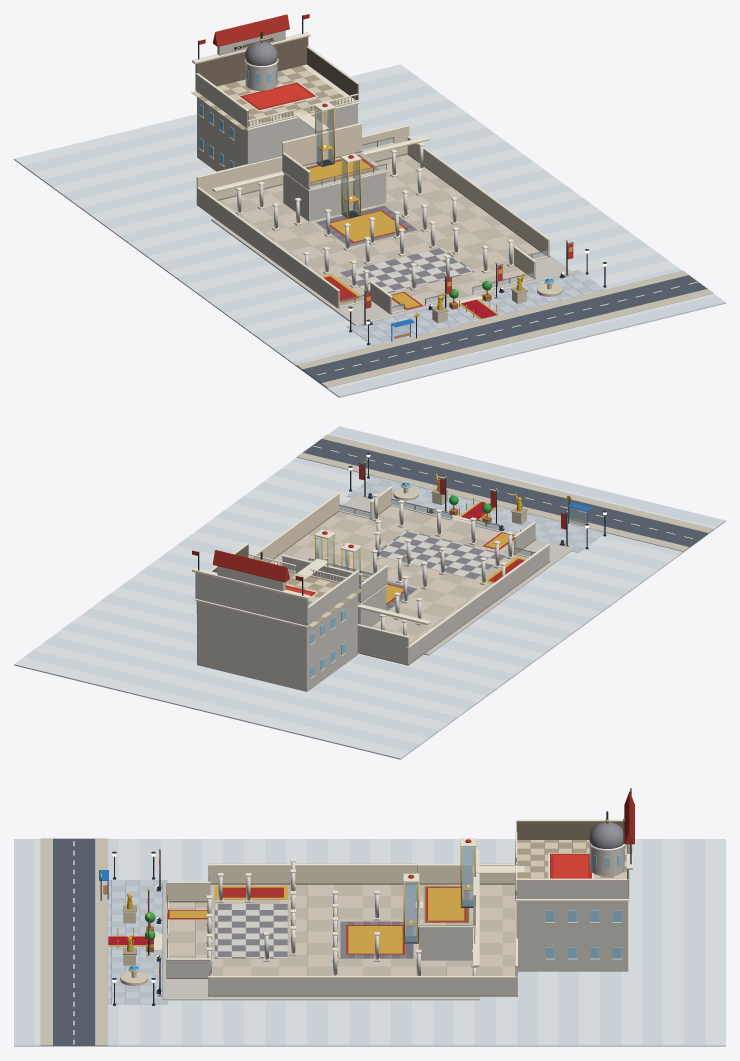
File: shell.glb
The picture shows the model from 3 angles, top to bottom: view 1: azimuth 30°, elevation 25°; view 2: azimuth 150°, elevation 25°; view 3: azimuth 270°, elevation 25°; orthographic projection. The views are drawn at different scales.
Visible parts, largest first — view 1: grounds, building, floor_keep_battlements, floor_floor_1, crown, lift_keep_battlements, lift_floor_1, grand_2, dome, grand_4; view 2: grounds, building, floor_keep_battlements, crown, floor_floor_1, grand_2, lift_keep_battlements, grand_4; view 3: grounds, building, floor_keep_battlements, floor_floor_1, crown, lift_keep_battlements, lift_floor_1, dome, grand_4, grand_3, grand_2.
Boxes of the visible parts, x1=… form: grounds: x1=14, y1=64, x2=725, y2=397; building: x1=196, y1=125, x2=573, y2=325; floor_keep_battlements: x1=191, y1=37, x2=359, y2=171; floor_floor_1: x1=281, y1=123, x2=394, y2=221; crown: x1=192, y1=14, x2=430, y2=192; lift_keep_battlements: x1=293, y1=102, x2=335, y2=166; lift_floor_1: x1=340, y1=153, x2=361, y2=218; grand_2: x1=362, y1=240, x2=573, y2=325; dome: x1=245, y1=41, x2=277, y2=65; grand_4: x1=431, y1=273, x2=527, y2=323; grounds: x1=14, y1=426, x2=725, y2=759; building: x1=196, y1=486, x2=572, y2=665; floor_keep_battlements: x1=195, y1=543, x2=363, y2=691; crown: x1=192, y1=550, x2=430, y2=625; floor_floor_1: x1=281, y1=554, x2=387, y2=626; grand_2: x1=358, y1=461, x2=569, y2=546; lift_keep_battlements: x1=294, y1=529, x2=335, y2=578; grand_4: x1=431, y1=474, x2=527, y2=524; grounds: x1=14, y1=838, x2=725, y2=1046; building: x1=154, y1=853, x2=517, y2=1000; floor_keep_battlements: x1=515, y1=819, x2=629, y2=971; floor_floor_1: x1=417, y1=853, x2=476, y2=960; crown: x1=472, y1=788, x2=634, y2=966; lift_keep_battlements: x1=460, y1=838, x2=524, y2=907; lift_floor_1: x1=403, y1=873, x2=423, y2=943; dome: x1=589, y1=821, x2=624, y2=848; grand_4: x1=123, y1=893, x2=136, y2=965; grand_3: x1=108, y1=885, x2=161, y2=993; grand_2: x1=145, y1=848, x2=161, y2=996.
Size of the model in its own units: 35 by 10.53 by 51.
